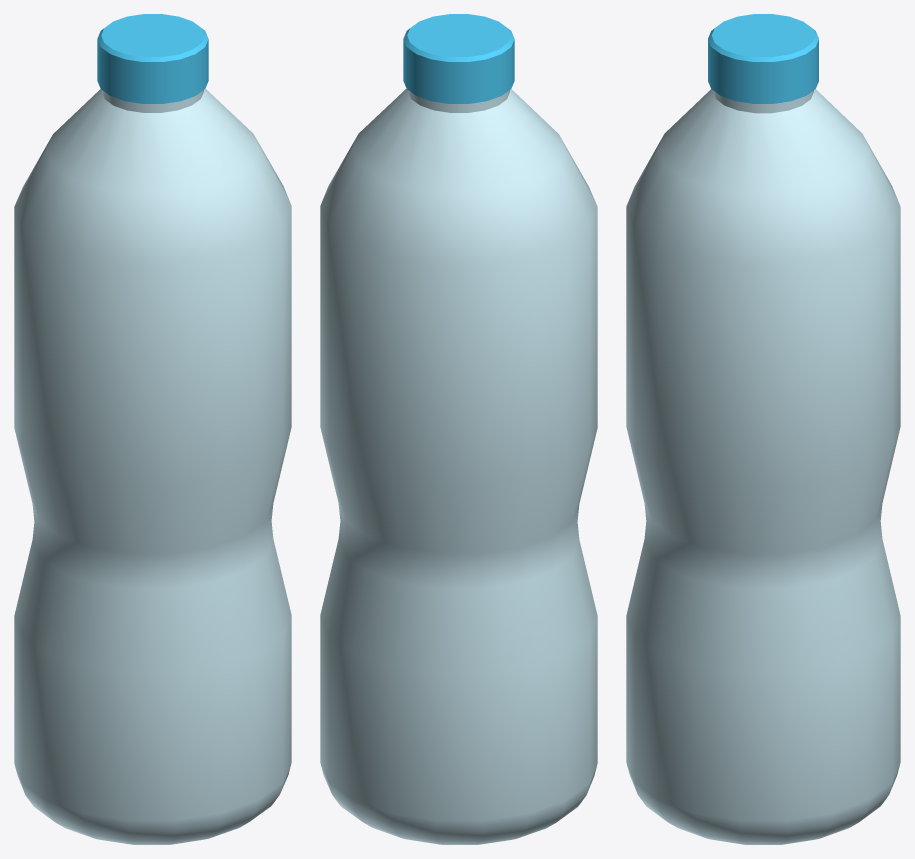
File: WaterBottle.fbx
The picture shows the model from 3 angles, left to right: view 1: azimuth 30°, elevation 25°; view 2: azimuth 150°, elevation 25°; view 3: azimuth 270°, elevation 25°; orthographic projection.
Parts seen in each view (by area): view 1: WaterBottle_03; view 2: WaterBottle_03; view 3: WaterBottle_03.
Boxes of the visible parts, x1,y1,x2,y2 form: WaterBottle_03: (14, 14, 291, 844); WaterBottle_03: (320, 14, 597, 844); WaterBottle_03: (626, 14, 900, 844).
Size of the model in its own units: 0.6911 by 0.6911 by 2.14.
